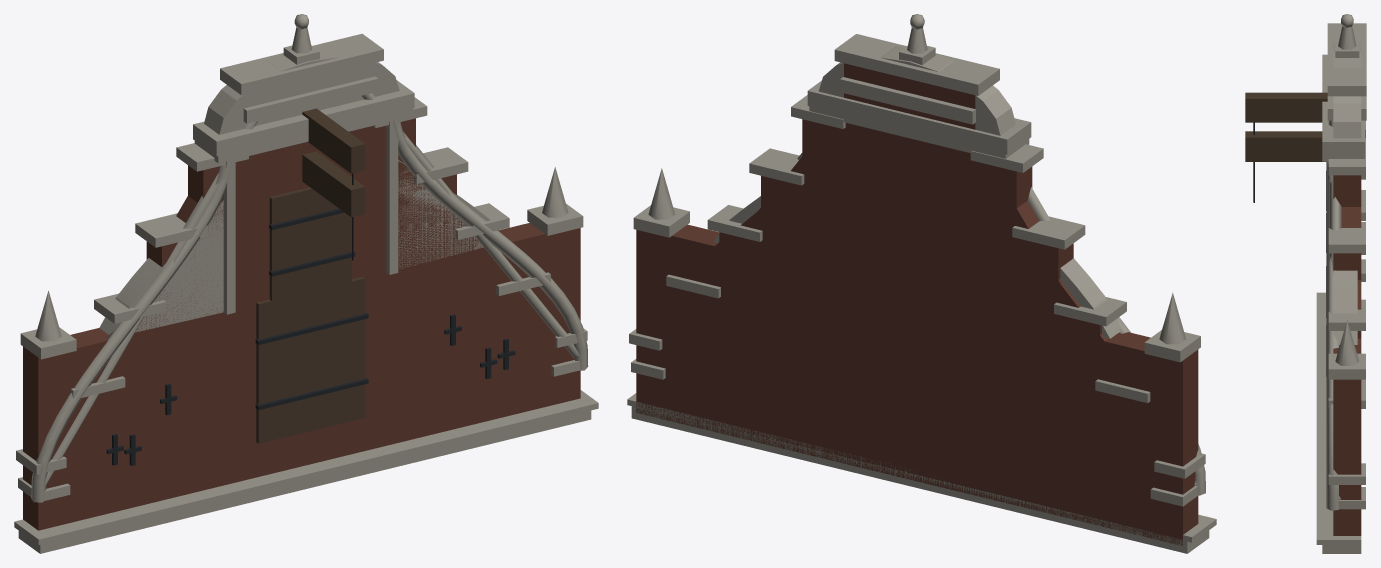
The model's file is gables.glb.
3 views of the same model, side by side, from view 1: azimuth 30°, elevation 25°; view 2: azimuth 150°, elevation 25°; view 3: azimuth 270°, elevation 25° (orthographic). The views are drawn at different scales.
Parts seen in each view (by area): view 1: neck_mesh, bell_mesh, spout_mesh, step_mesh; view 2: spout_mesh, step_mesh, neck_mesh, bell_mesh; view 3: step_mesh, neck_mesh, bell_mesh, spout_mesh.
Part boxes in pixels (<box>): neck_mesh: <box>14,46,598,553</box>; bell_mesh: <box>18,74,588,530</box>; spout_mesh: <box>32,45,579,530</box>; step_mesh: <box>14,14,598,553</box>; spout_mesh: <box>628,46,1209,553</box>; step_mesh: <box>627,14,1216,553</box>; neck_mesh: <box>633,46,1216,553</box>; bell_mesh: <box>631,84,1205,533</box>; step_mesh: <box>1245,14,1366,553</box>; neck_mesh: <box>1245,42,1365,544</box>; bell_mesh: <box>1245,148,1365,535</box>; spout_mesh: <box>1245,41,1366,553</box>.
Bounding box in the file's own units: 6.3 × 4.97 × 1.31.
